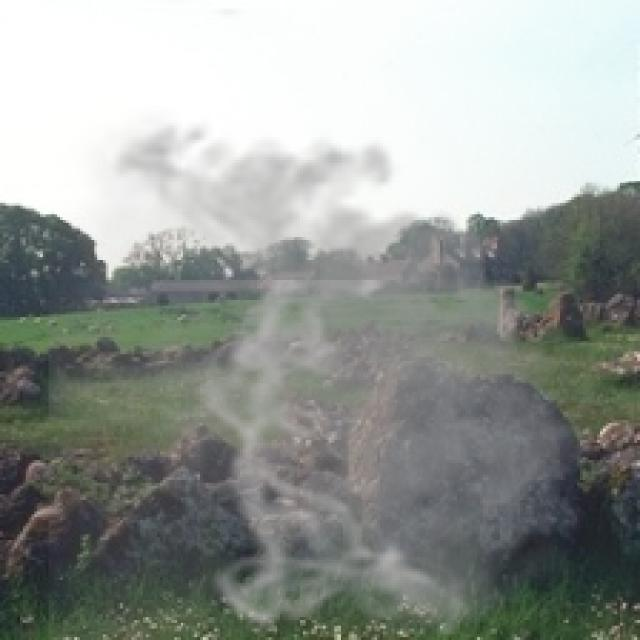smoke: (49, 106, 614, 637)
